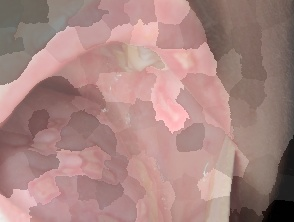SJS-TEN: (8, 106, 125, 207)
